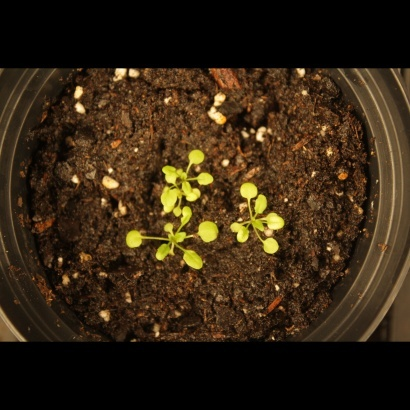leaf: (196, 218, 224, 247), (182, 248, 209, 274), (119, 227, 147, 252), (154, 189, 177, 219), (260, 236, 283, 259), (239, 179, 262, 202), (253, 192, 276, 215), (266, 210, 289, 233), (230, 220, 253, 243), (197, 166, 220, 189), (185, 146, 208, 169), (156, 161, 179, 184), (182, 183, 205, 206)
